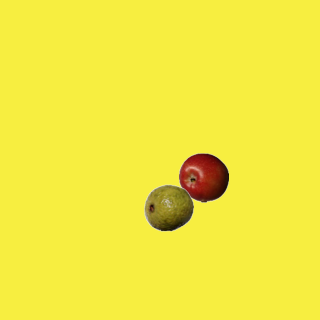Apple Braeburn: (178, 152, 228, 202)
Guava: (143, 182, 193, 232)
